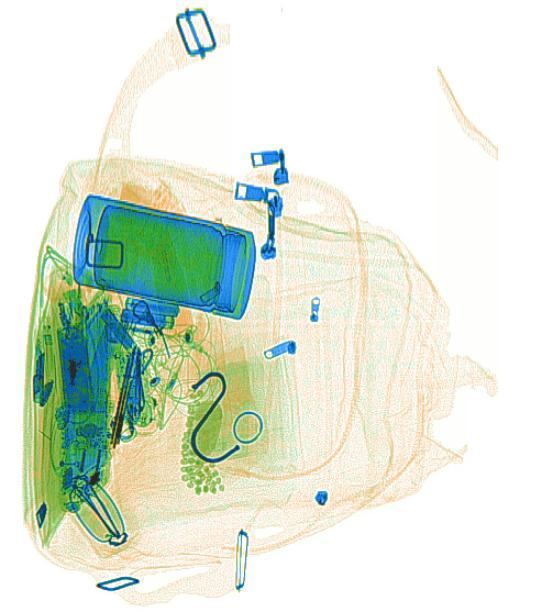battery: (51, 289, 96, 420), (96, 306, 141, 359), (120, 297, 181, 330)
plasticBottleWithaNozzle: (145, 219, 194, 340)
